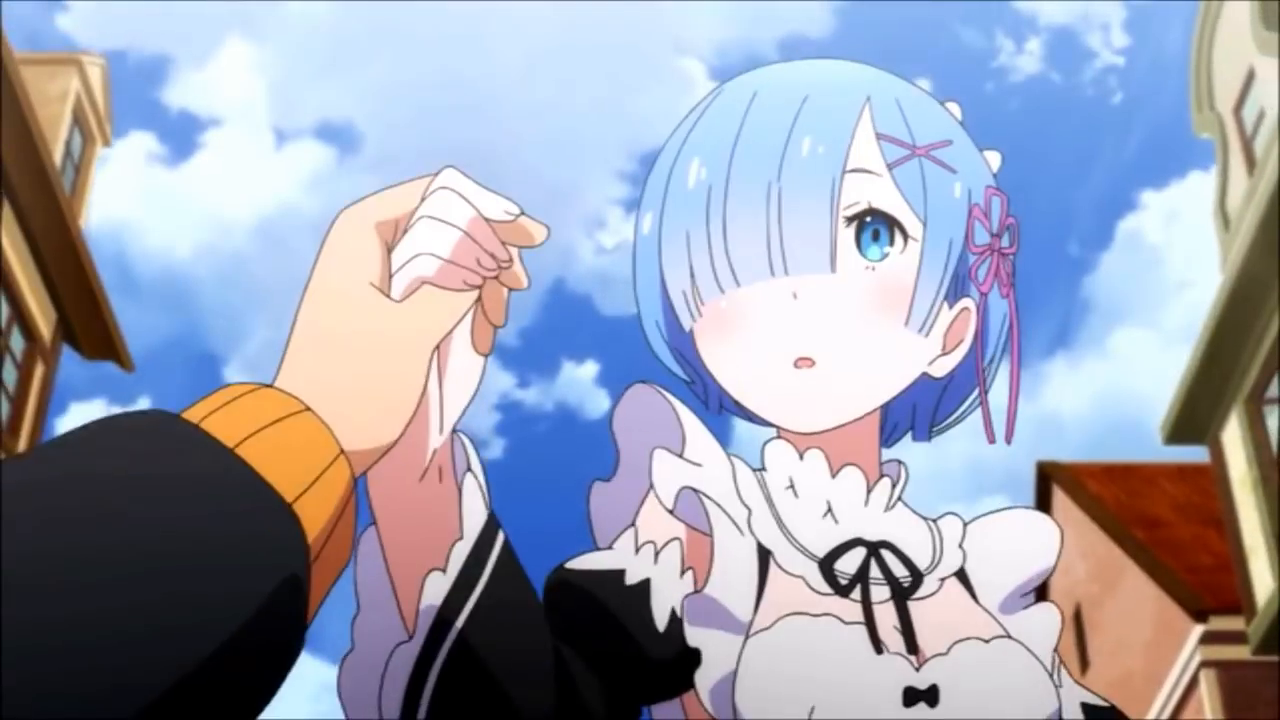REM: (623, 54, 1033, 437)
